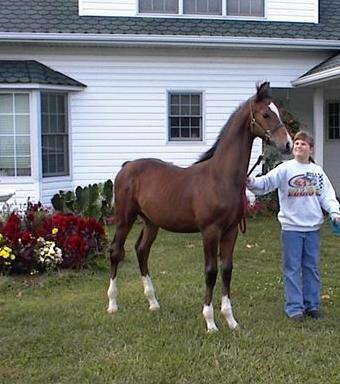horse: (105, 80, 293, 333)
